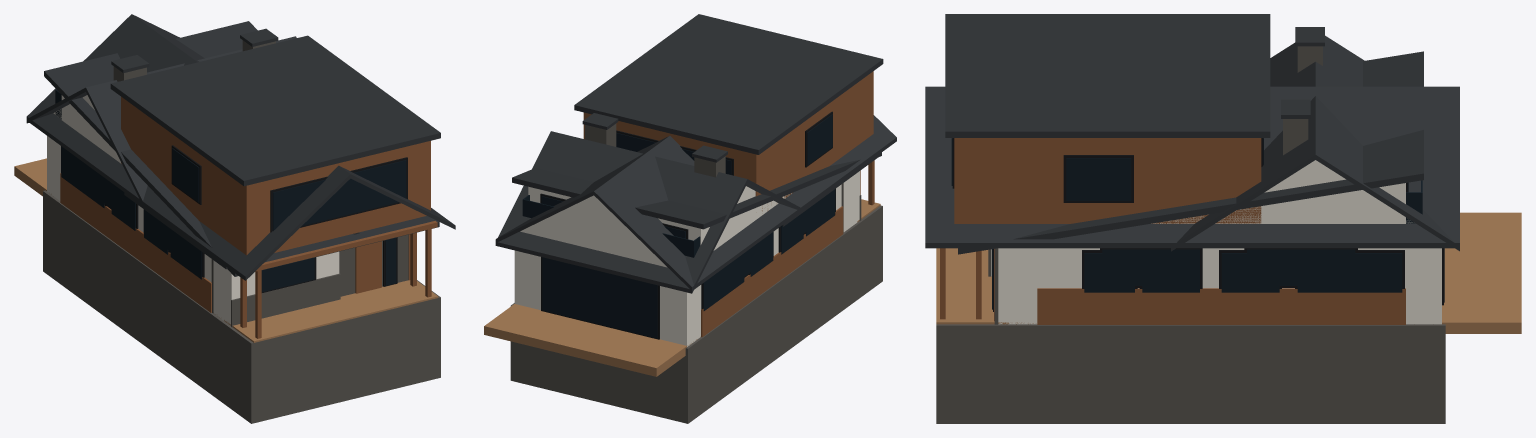
File: serra-houses.glb
3 views of the same model, side by side, from view 1: azimuth 30°, elevation 25°; view 2: azimuth 150°, elevation 25°; view 3: azimuth 270°, elevation 25° (orthographic). The views are drawn at different scales.
Visible parts, largest first — view 1: casa-b, casa-a, casa-d, casa-c; view 2: casa-b, casa-a, casa-c, casa-d; view 3: casa-a, casa-b, casa-d, casa-c.
Boxes of the visible parts, x1=… form: casa-b: x1=50, y1=35, x2=440, y2=406; casa-a: x1=26, y1=14, x2=455, y2=423; casa-d: x1=32, y1=21, x2=439, y2=332; casa-c: x1=14, y1=36, x2=419, y2=339; casa-b: x1=522, y1=14, x2=883, y2=416; casa-a: x1=495, y1=113, x2=896, y2=423; casa-c: x1=484, y1=131, x2=878, y2=423; casa-d: x1=512, y1=152, x2=881, y2=413; casa-a: x1=925, y1=86, x2=1459, y2=423; casa-b: x1=945, y1=14, x2=1427, y2=423; casa-d: x1=958, y1=51, x2=1478, y2=423; casa-c: x1=987, y1=27, x2=1521, y2=423.
Bounding box in the file's own units: 8.2 × 9.04 × 16.5.
